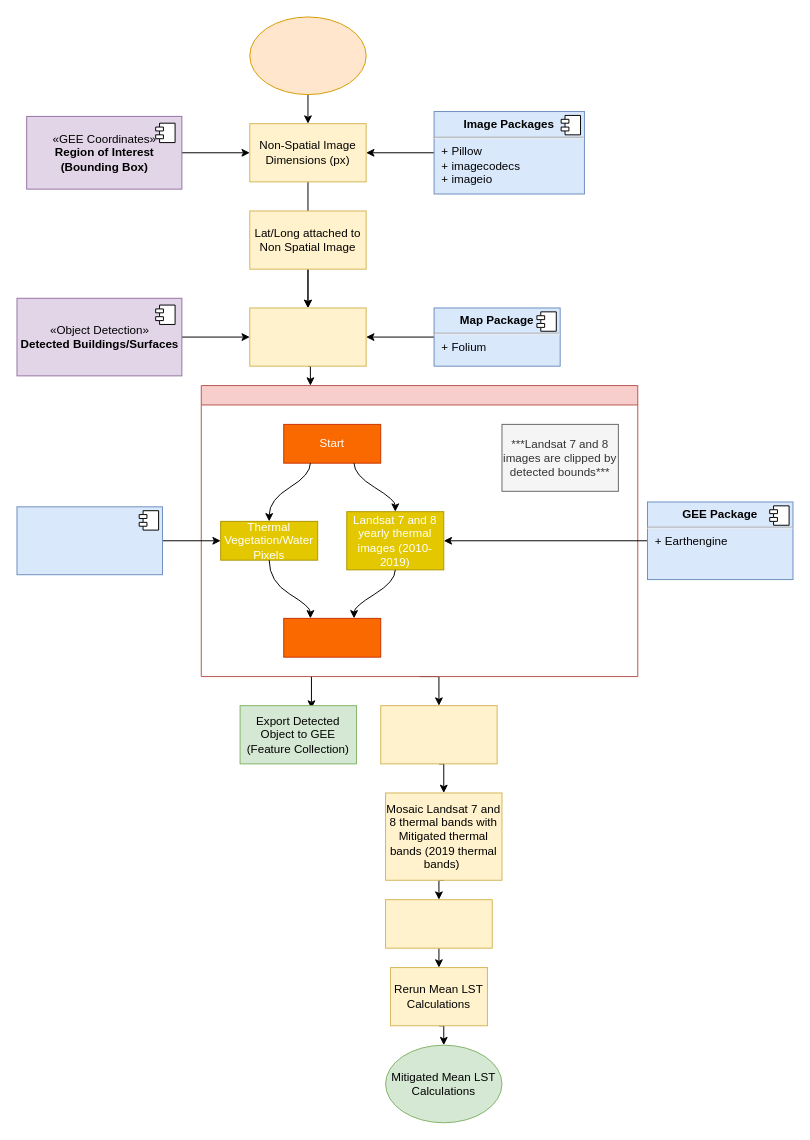
Some shapes in this 810 by 1140 pixel diagram are drawn without their labels. The shapes that lost their labels are listed below. From the top down, each one's box as (x1, y1, x2, y2) in pixels, then its label:
(249, 16, 366, 95): Start Mitigation
(249, 307, 366, 366): Image and detected within Bounds on Map
(16, 506, 162, 575): Tabular Package + pandas
(200, 385, 638, 677): Image Clipping and Pixel Manipulation
(283, 617, 381, 657): End
(380, 705, 497, 764): Export Clipped Mitigated Images to GEE
(385, 899, 492, 948): Remake Image Collection
